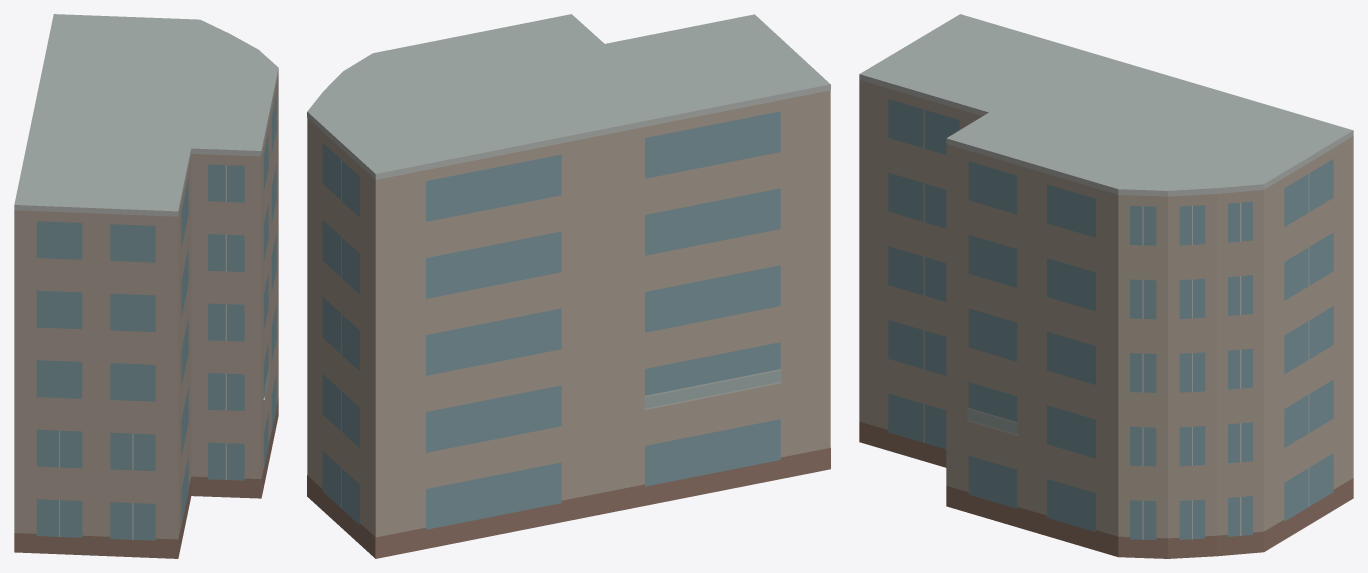
Rendered from survey-upis-32720595.glb.
3 renders of one model, left to right at view 1: azimuth 30°, elevation 25°; view 2: azimuth 150°, elevation 25°; view 3: azimuth 270°, elevation 25°, orthographic. The views are drawn at different scales.
Visible parts, largest first — view 1: survey-upis-32720595.tmp; view 2: survey-upis-32720595.tmp; view 3: survey-upis-32720595.tmp.
Part boxes in pixels (x1,y1,x2,y2): survey-upis-32720595.tmp: (14, 14, 278, 558); survey-upis-32720595.tmp: (307, 14, 830, 558); survey-upis-32720595.tmp: (859, 14, 1353, 558).
Bounding box in the file's own units: 16.3 × 15.8 × 19.24.
